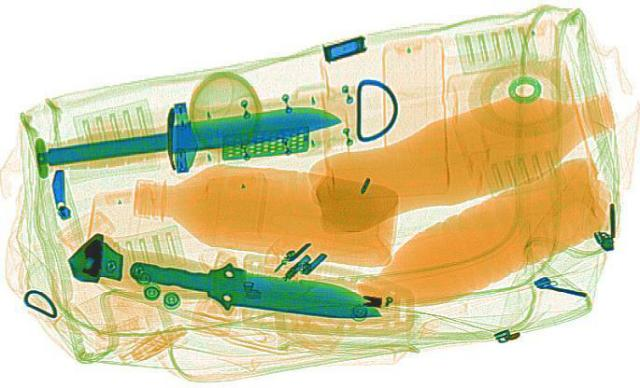Knife: (21, 81, 355, 188), (117, 248, 393, 329)
